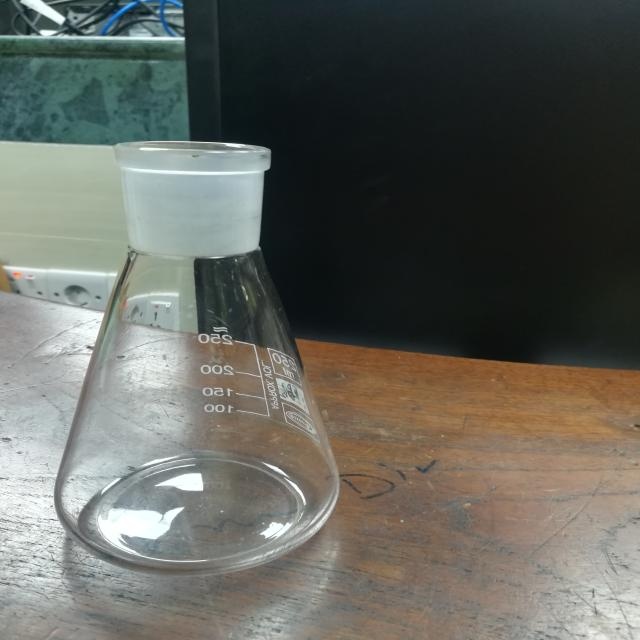Conical_Flask: (35, 94, 390, 601)
